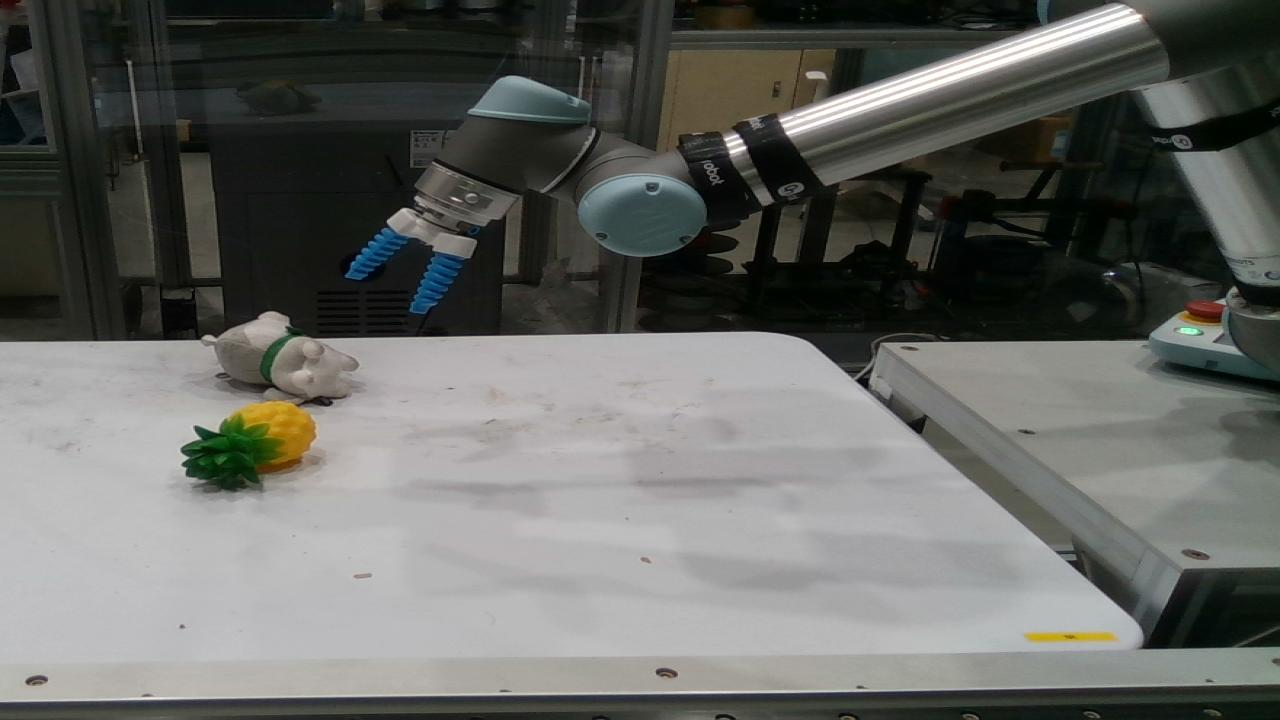UR5: (387, 0, 1272, 369)
gripper_left: (345, 228, 409, 279)
gripper_right: (416, 253, 460, 314)
target: (206, 312, 358, 404), (182, 402, 314, 489)
